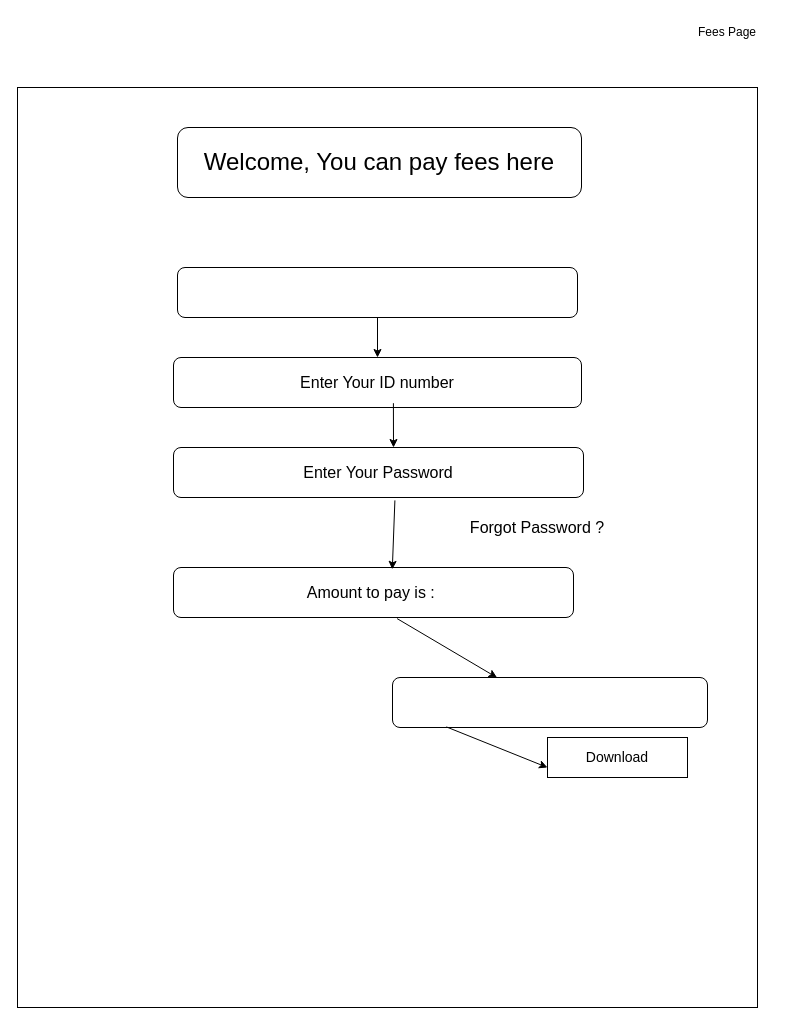
Some shapes in this 785 by 1025 pixel diagram are drawn without their labels. The shapes that lost their labels are listed below. From the top down, each one's centre as x and y in pixels, then its label:
[377,292]: Enter The Semester Number
[550,702]: For download recipt click below
